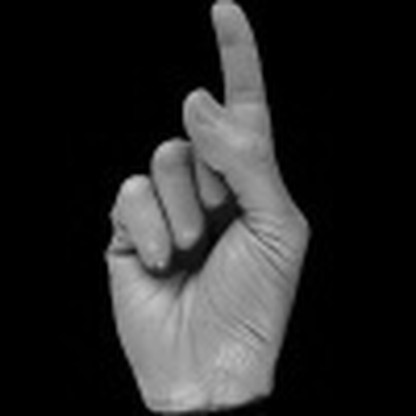d: (99, 1, 312, 408)
